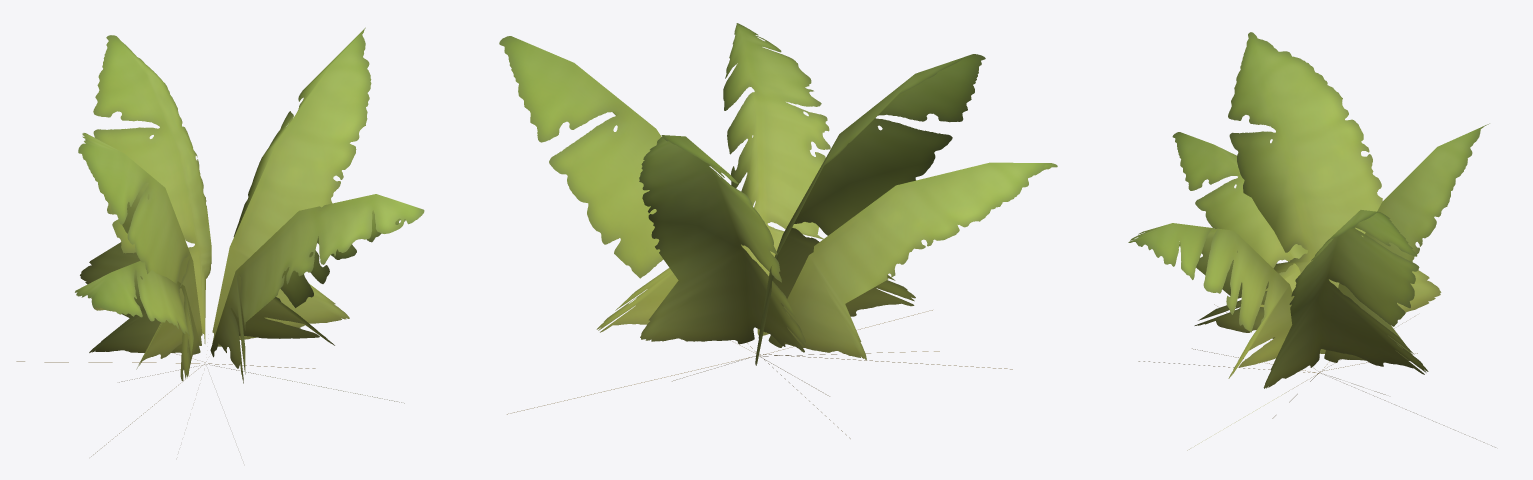
The model's file is banana plant 02_lod4.obj.
3 renders of one model, left to right at view 1: azimuth 30°, elevation 25°; view 2: azimuth 150°, elevation 25°; view 3: azimuth 270°, elevation 25°, orthographic. The views are drawn at different scales.
Visible parts, largest first — view 1: tree; view 2: tree; view 3: tree.
Boxes of the visible parts, x1=… form: tree: x1=16, y1=27, x2=424, y2=456; tree: x1=499, y1=23, x2=1057, y2=438; tree: x1=1128, y1=32, x2=1495, y2=450.
Bounding box in the file's own units: 235 × 167 × 208.
